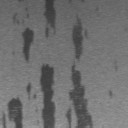red iron: (64, 64, 94, 128), (40, 62, 56, 128), (72, 13, 92, 62), (2, 96, 24, 128), (42, 0, 60, 38), (21, 26, 34, 62), (25, 82, 37, 101), (12, 12, 20, 26), (109, 90, 114, 98)
